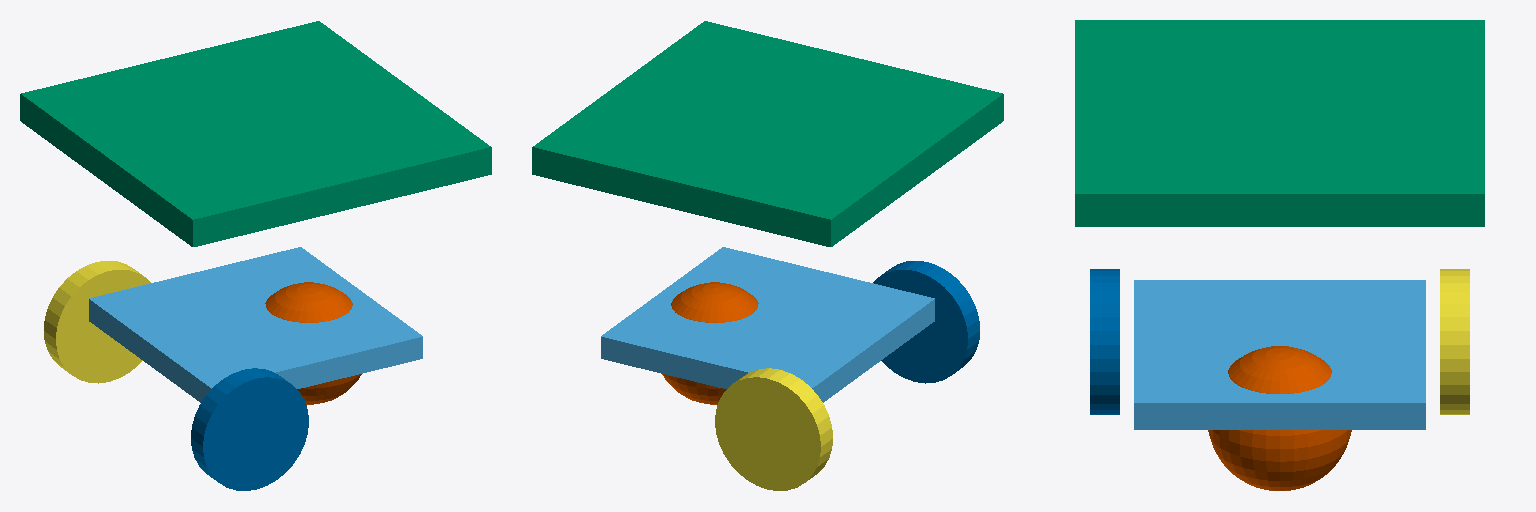
robot.urdf — bot4:
<?xml version="1.0" encoding="utf-8"?>
<!-- =================================================================================== -->
<!-- |    This document was autogenerated by xacro from bot.urdf.xacro                 | -->
<!-- |    EDITING THIS FILE BY HAND IS NOT RECOMMENDED                                 | -->
<!-- =================================================================================== -->
<robot name="bot4">
  <link name="base_link"/>
  <link name="base_link_inertia">
    <inertial>
      <origin rpy="0 0 0" xyz="0 0 0"/>
      <mass value="1"/>
      <inertia ixx="0.000538666666667" ixy="0" ixz="0" iyy="0.000538666666667" iyz="0" izz="0.00106666666667"/>
    </inertial>
    <collision>
      <origin rpy="0 0 0" xyz="0 0 0"/>
      <geometry>
        <box size="0.08 0.08 0.008"/>
      </geometry>
    </collision>
    <visual>
      <origin rpy="0 0 0" xyz="0 0 0"/>
      <geometry>
        <box size="0.08 0.08 0.008"/>
      </geometry>
    </visual>
  </link>
  <link name="aruco">
    <inertial>
      <origin rpy="0 0 0" xyz="0 0 0"/>
      <mass value="0.1"/>
      <inertia ixx="5.38666666667e-05" ixy="0" ixz="0" iyy="5.38666666667e-05" iyz="0" izz="0.000106666666667"/>
    </inertial>
    <collision>
      <origin rpy="0 0 0" xyz="0 0 0"/>
      <geometry>
        <mesh filename="package://bot_description/meshes/bot2.dae" scale="1.25 1.25 1.25"/>
      </geometry>
    </collision>
    <visual>
      <origin rpy="0 0 0" xyz="0 0 0"/>
      <geometry>
        <mesh filename="package://bot_description/meshes/bot2.dae" scale="1.25 1.25 1.25"/>
      </geometry>
    </visual>
  </link>
  <link name="left_wheel">
    <inertial>
      <origin rpy="0 0 0" xyz="0 0 0"/>
      <mass value="0.3"/>
      <inertia ixx="3.16e-05" ixy="0" ixz="0" iyy="3.16e-05" iyz="0" izz="6e-05"/>
    </inertial>
    <collision>
      <origin rpy="0 0 0" xyz="0 0 0"/>
      <geometry>
        <cylinder length="0.008" radius="0.02"/>
      </geometry>
    </collision>
    <visual>
      <origin rpy="0 0 0" xyz="0 0 0"/>
      <geometry>
        <cylinder length="0.008" radius="0.02"/>
      </geometry>
    </visual>
  </link>
  <link name="right_wheel">
    <inertial>
      <origin rpy="0 0 0" xyz="0 0 0"/>
      <mass value="0.3"/>
      <inertia ixx="3.16e-05" ixy="0" ixz="0" iyy="3.16e-05" iyz="0" izz="6e-05"/>
    </inertial>
    <collision>
      <origin rpy="0 0 0" xyz="0 0 0"/>
      <geometry>
        <cylinder length="0.008" radius="0.02"/>
      </geometry>
    </collision>
    <visual>
      <origin rpy="0 0 0" xyz="0 0 0"/>
      <geometry>
        <cylinder length="0.008" radius="0.02"/>
      </geometry>
    </visual>
  </link>
  <link name="caster_wheel">
    <inertial>
      <origin rpy="0 0 0" xyz="0 0 0"/>
      <mass value="4"/>
      <inertia ixx="0.00064" ixy="0" ixz="0" iyy="0.00064" iyz="0" izz="0.00064"/>
    </inertial>
    <collision>
      <origin rpy="0 0 0" xyz="0 0 0"/>
      <geometry>
        <sphere radius="0.02"/>
      </geometry>
    </collision>
    <visual>
      <origin rpy="0 0 0" xyz="0 0 0"/>
      <geometry>
        <sphere radius="0.02"/>
      </geometry>
    </visual>
  </link>
  <!-- joints def -->
  <joint name="base_link_inertia_joint_2" type="fixed">
    <parent link="base_link"/>
    <child link="base_link_inertia"/>
    <origin rpy="0 0 0" xyz="0 0 0"/>
  </joint>
  <joint name="aruco_joint_2" type="fixed">
    <parent link="base_link"/>
    <child link="aruco"/>
    <origin rpy="0 0 0" xyz="0 0 0.07"/>
  </joint>
  <joint name="bot2_left_wheel_joint" type="continuous">
    <parent link="base_link"/>
    <child link="left_wheel"/>
    <origin rpy="0 1.570795 1.570795" xyz="-0.03 0.048  -0.01"/>
    <axis rpy="0 0 0" xyz="0 0 1"/>
  </joint>
  <joint name="bot2_right_wheel_joint" type="continuous">
    <parent link="base_link"/>
    <child link="right_wheel"/>
    <origin rpy="0 1.570795 1.570795" xyz="-0.03 -0.048  -0.01"/>
    <axis rpy="0 0 0" xyz="0 0 1"/>
  </joint>
  <joint name="caster_wheel_joint" type="fixed">
    <parent link="base_link"/>
    <child link="caster_wheel"/>
    <origin rpy="0 0 0" xyz="0.02 0 -0.01"/>
    <axis rpy="0 0 0" xyz="0 1 0"/>
  </joint>
  <!-- controls plugin for vlecoty based control -->
  <gazebo>
    <plugin filename="libgazebo_ros_control.so" name="gazebo_ros_control">
      <legacyModeNS>true</legacyModeNS>
      <robotNamespace>/bot2</robotNamespace>
    </plugin>
  </gazebo>
  <transmission name="bot2_left_wheel_trans">
    <type>transmission_interface/SimpleTransmission</type>
    <joint name="bot2_left_wheel_joint">
      <hardwareInterface>hardware_interface/EffortJointInterface</hardwareInterface>
    </joint>
    <actuator name="bot2_left_wheel_joint_motor">
      <hardwareInterface>hardware_interface/EffortJointInterface</hardwareInterface>
      <mechanicalReduction>1</mechanicalReduction>
    </actuator>
  </transmission>
  <transmission name="bot2_right_wheel_trans">
    <type>transmission_interface/SimpleTransmission</type>
    <joint name="bot2_right_wheel_joint">
      <hardwareInterface>hardware_interface/EffortJointInterface</hardwareInterface>
    </joint>
    <actuator name="bot2_right_wheel_joint_motor">
      <hardwareInterface>hardware_interface/EffortJointInterface</hardwareInterface>
      <mechanicalReduction>1</mechanicalReduction>
    </actuator>
  </transmission>
</robot>

--- Facts derived from the render (not from the file) ---
3 views of the same robot in one strip: view 1: azimuth 30°, elevation 25°; view 2: azimuth 150°, elevation 25°; view 3: azimuth 270°, elevation 25° (orthographic).
Robot: bot4 — 6 links, 5 joints (2 continuous, 3 fixed); root link base_link; default pose: every joint at zero.
Links seen in each view (by area): view 1: aruco, base_link_inertia, right_wheel, left_wheel, caster_wheel; view 2: aruco, base_link_inertia, left_wheel, right_wheel, caster_wheel; view 3: aruco, base_link_inertia, caster_wheel, left_wheel, right_wheel.
Boxes of the visible links, <box> form: aruco: <box>20,21,491,246</box>; base_link_inertia: <box>89,247,422,402</box>; right_wheel: <box>191,368,308,490</box>; left_wheel: <box>44,261,150,383</box>; caster_wheel: <box>265,282,361,404</box>; aruco: <box>532,21,1003,246</box>; base_link_inertia: <box>601,247,934,402</box>; left_wheel: <box>715,368,832,490</box>; right_wheel: <box>873,261,979,383</box>; caster_wheel: <box>662,282,758,404</box>; aruco: <box>1075,20,1484,226</box>; base_link_inertia: <box>1134,280,1425,429</box>; caster_wheel: <box>1208,346,1351,490</box>; left_wheel: <box>1440,269,1469,414</box>; right_wheel: <box>1090,269,1119,414</box>.
Bounding box of the posed robot: 0.1125 × 0.1125 × 0.105 m (x, y, z).
Meshes: 1 distinct files referenced, 1 mesh visuals loaded (1 Collada DAE).